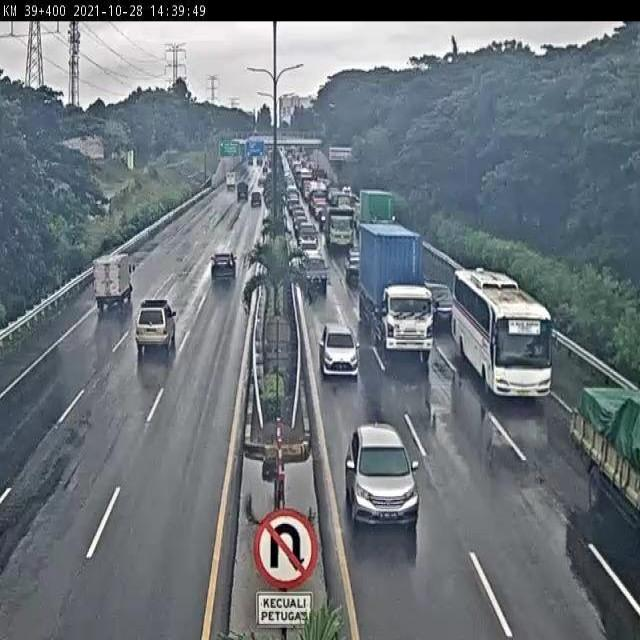big bus: (452, 264, 563, 407)
